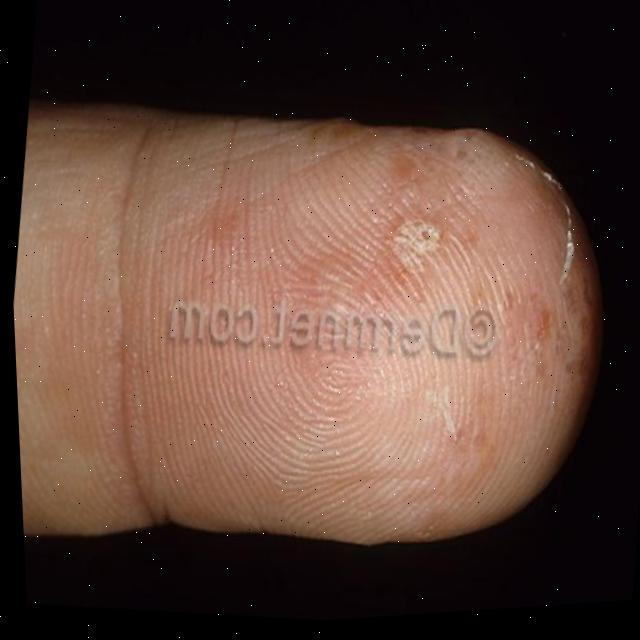Eczema: (248, 141, 573, 416)
